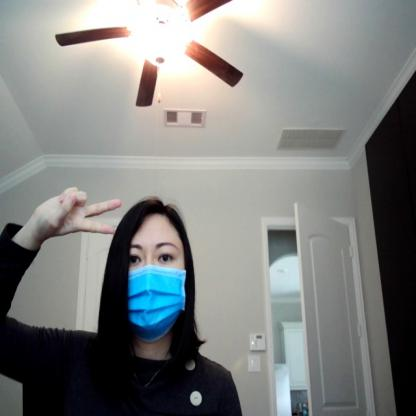two: (31, 185, 124, 241)
